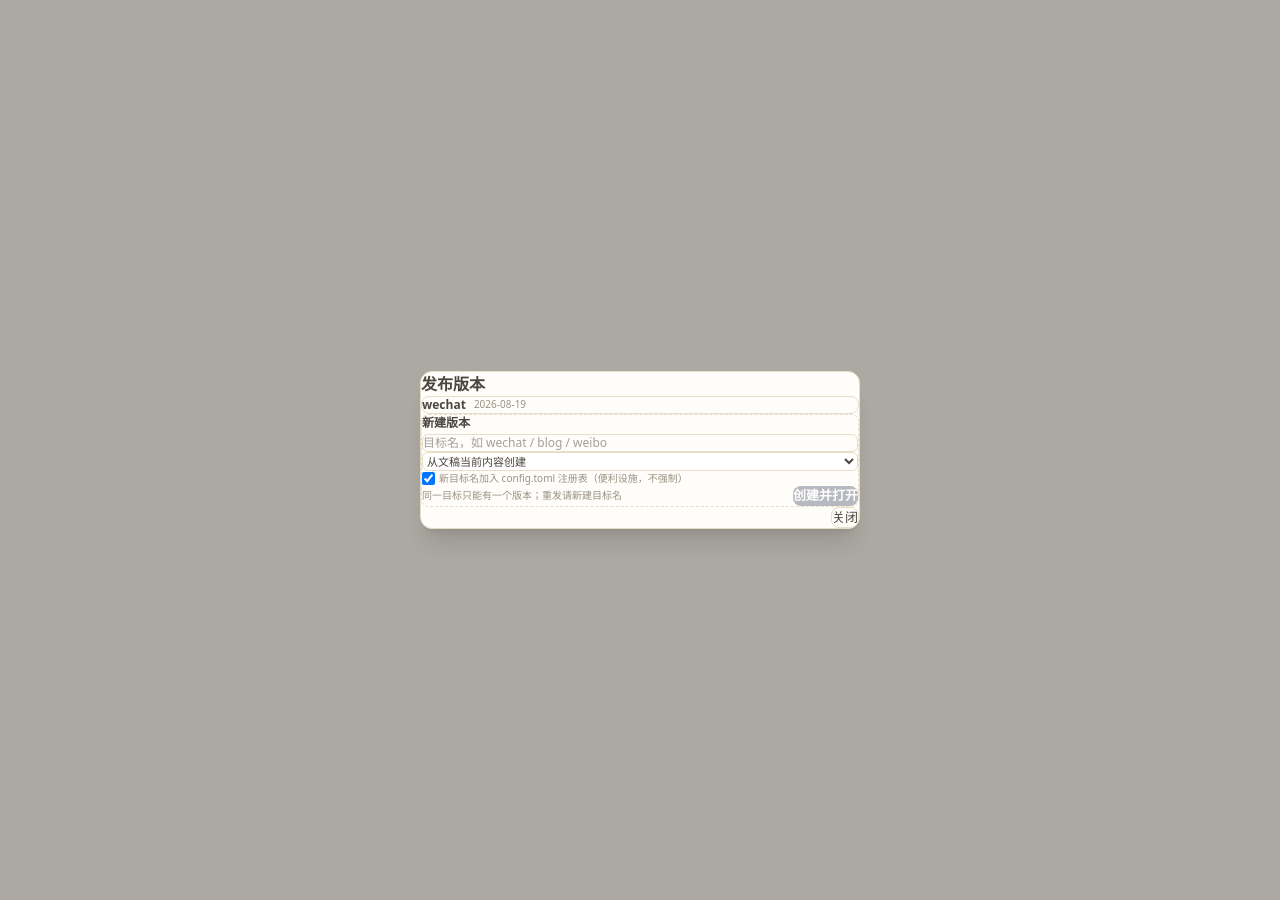
Scenario: PublishDialog › 同目标已存在时报错展示（TargetExists）
This screenshot has width=1280, height=900.
Step 1. Type "wechat" into the field with test id "new-target-name" → (640, 443), box left=422, top=434, right=858, bottom=452
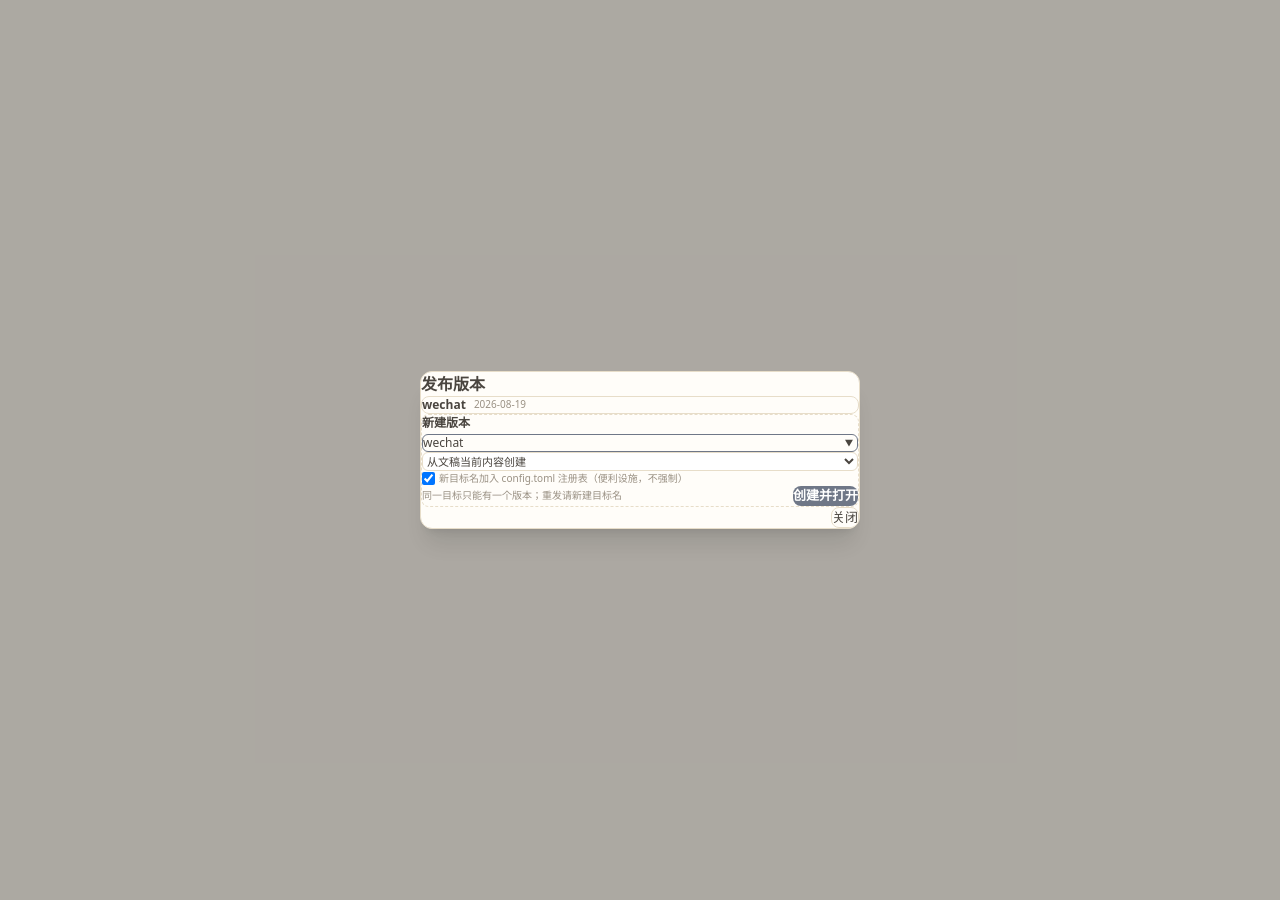
Step 2. Click the button with test id "create-version-btn" → (826, 496), box left=793, top=486, right=858, bottom=506
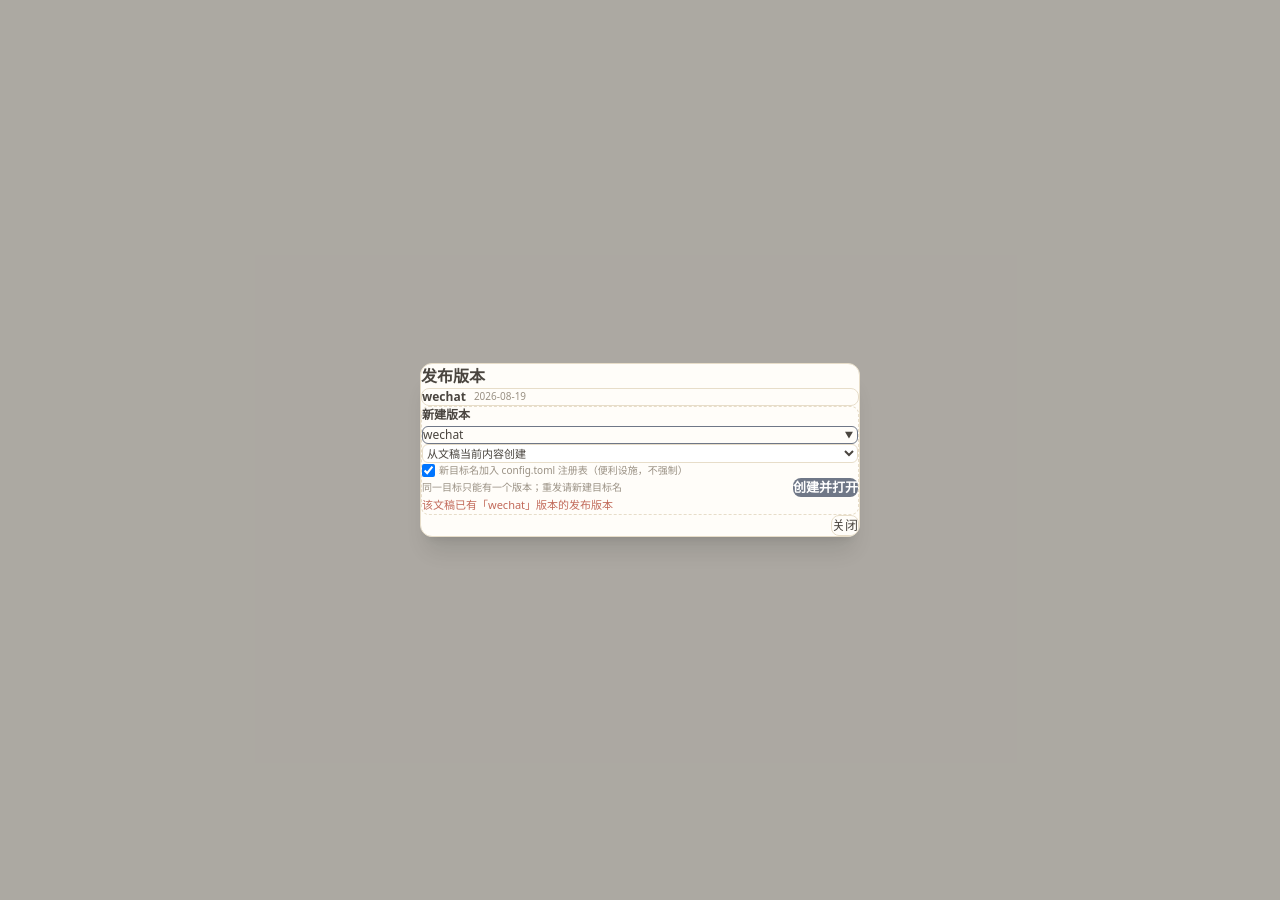
Result: the text "该文稿已有「wechat」版本的发布版本" is shown at left=422, top=497, right=613, bottom=512
